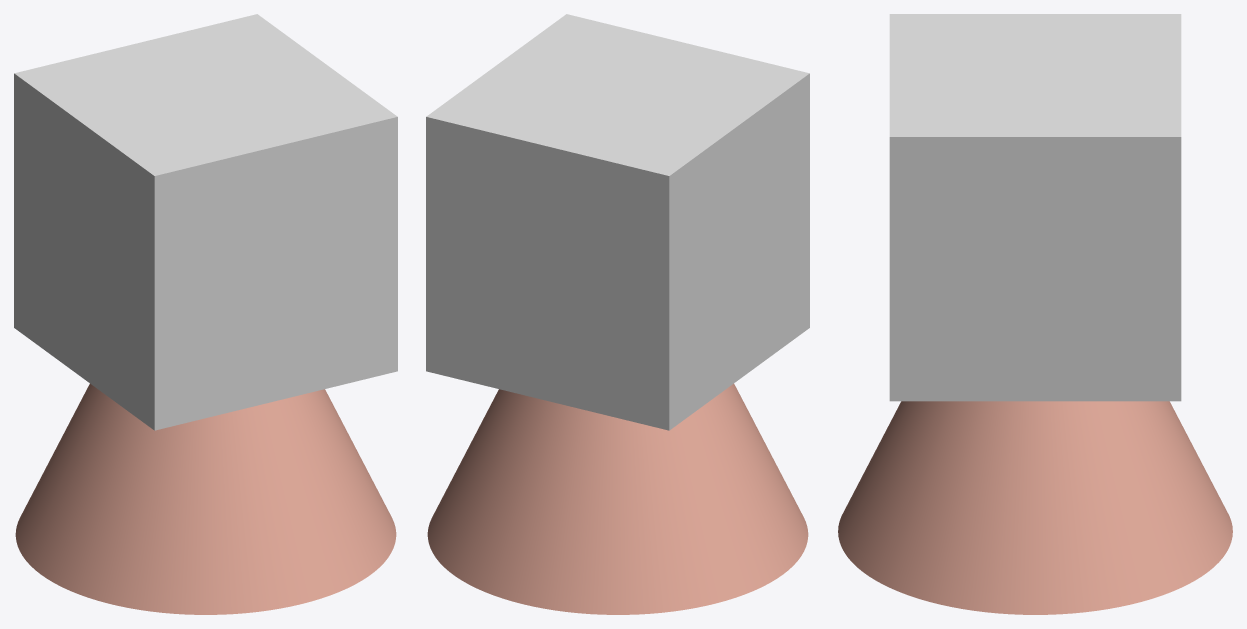
File: cone_pink_horizontal.glb
The picture shows the model from 3 angles, left to right: view 1: azimuth 30°, elevation 25°; view 2: azimuth 150°, elevation 25°; view 3: azimuth 270°, elevation 25°; orthographic projection. The views are drawn at different scales.
Parts seen in each view (by area): view 1: placeholder, Cone; view 2: placeholder, Cone; view 3: placeholder, Cone.
Boxes of the visible parts, <box> form: placeholder: <box>14,14,397,430</box>; Cone: <box>15,383,396,614</box>; placeholder: <box>426,14,809,430</box>; Cone: <box>427,383,808,614</box>; placeholder: <box>889,14,1181,401</box>; Cone: <box>838,401,1232,614</box>.
Bounding box in the file's own units: 1.34 × 1.71 × 1.34.
